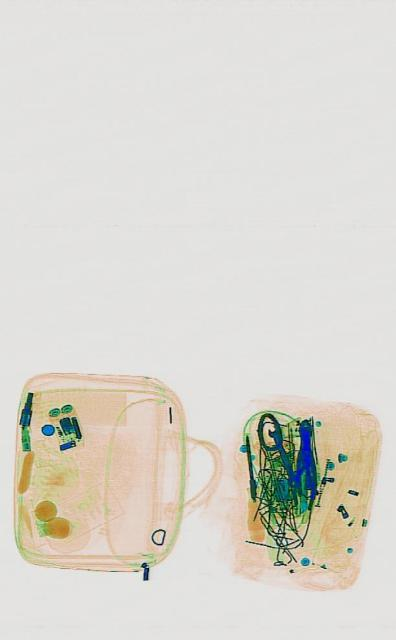Pliers: (290, 418, 315, 498)
Wrench: (264, 420, 297, 492)
